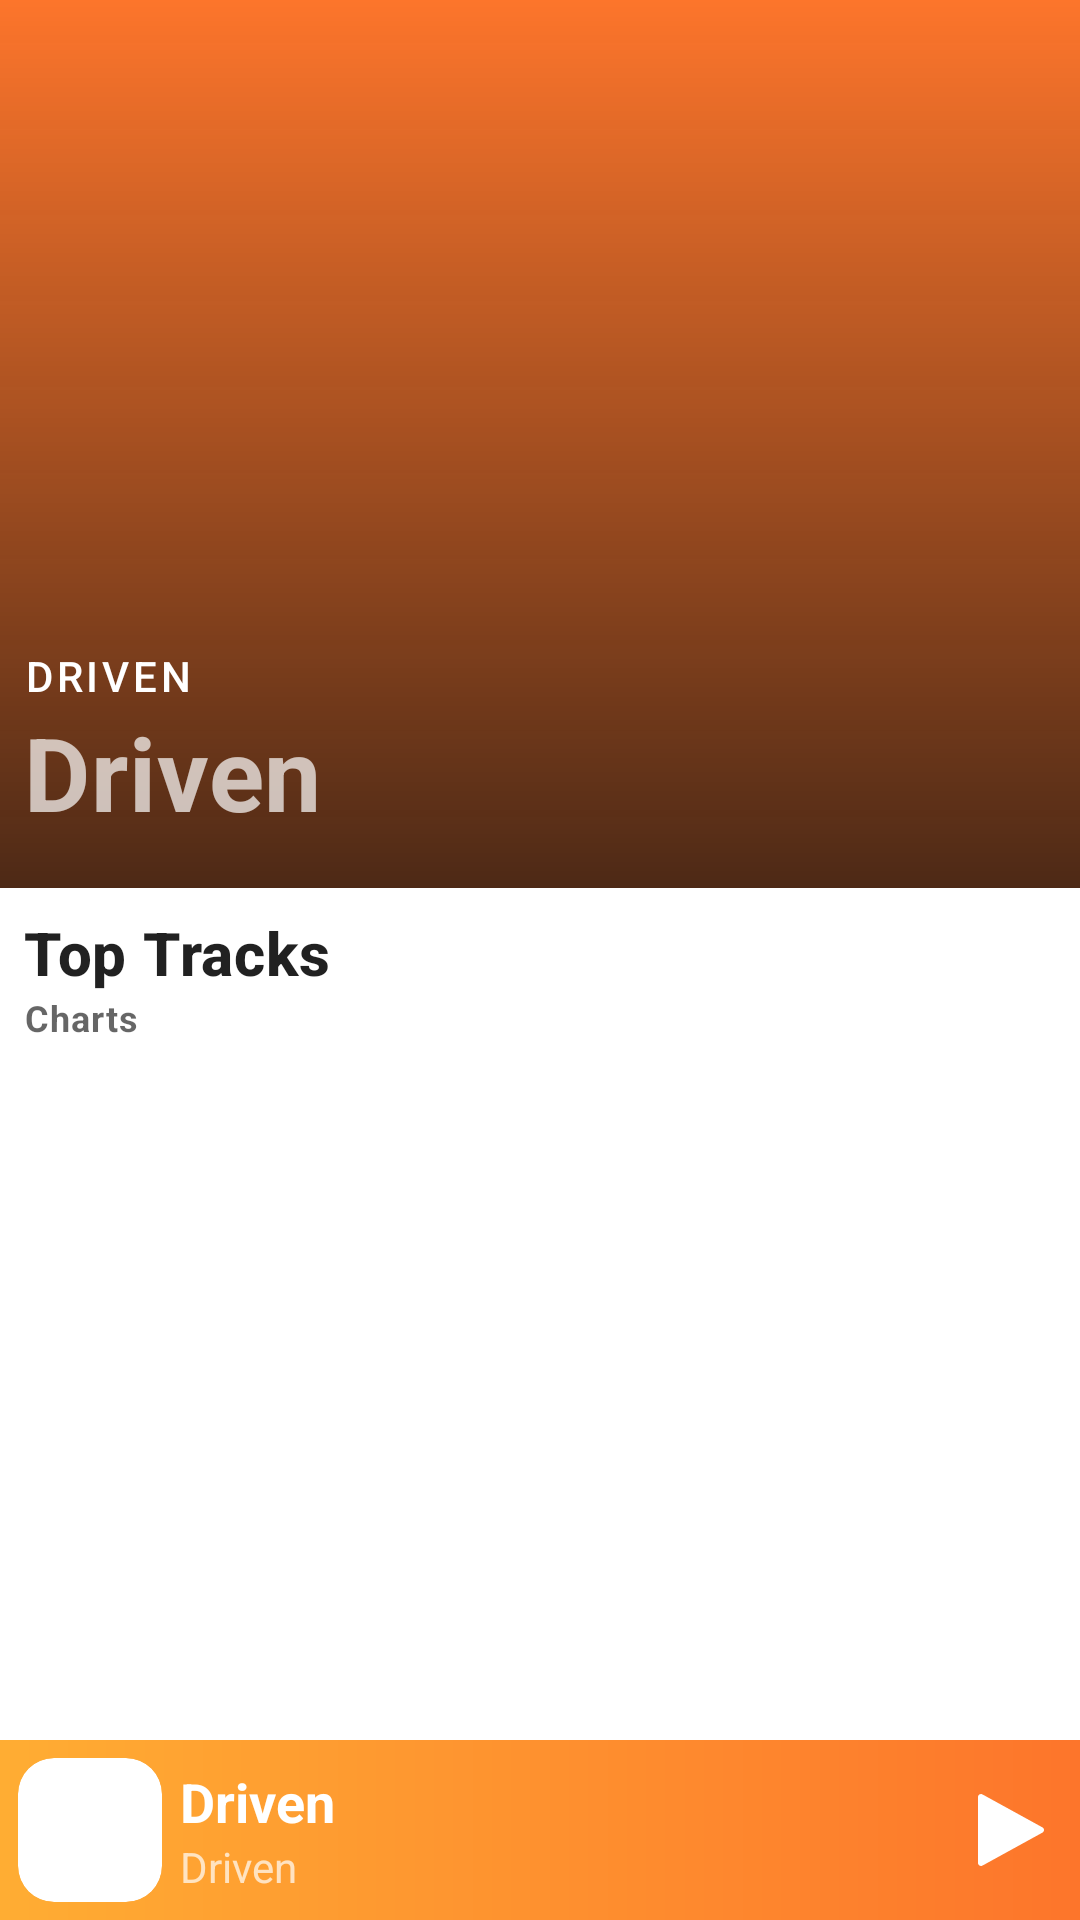

Named icons in this screenshot (1080 × 1920) and their centers, (x,y):
play: (1011,1830)
